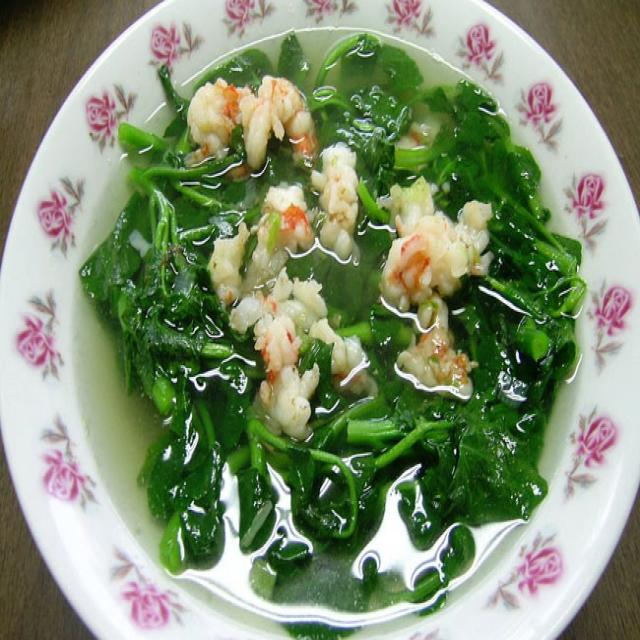canh cai: (79, 35, 587, 618)
